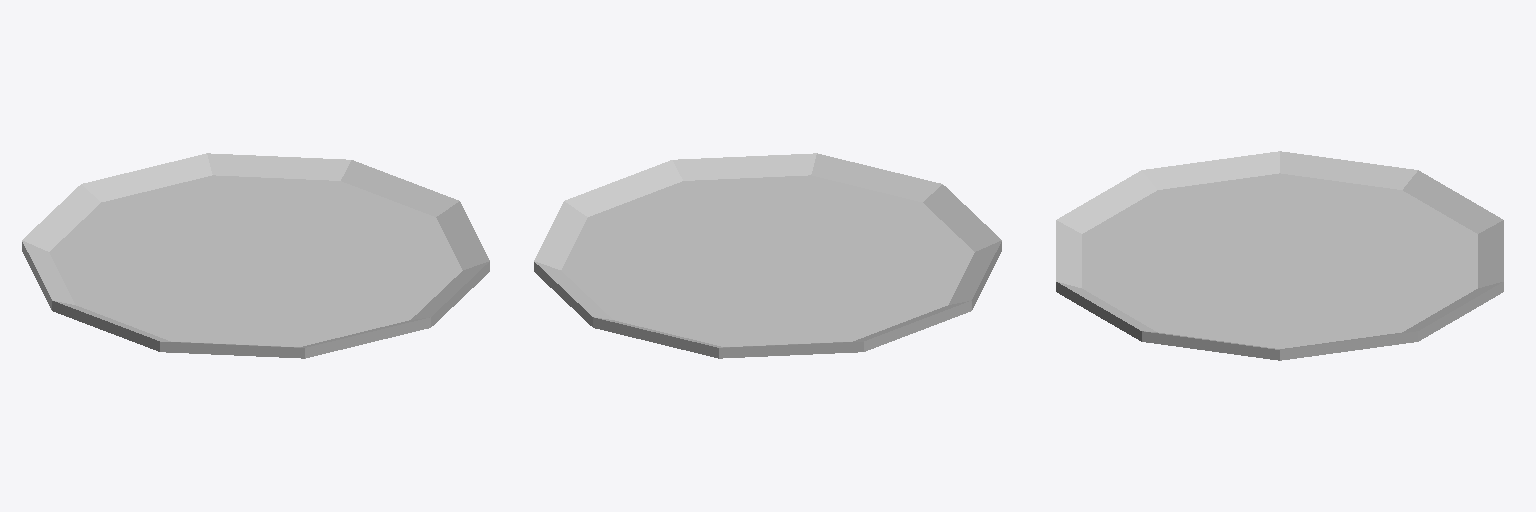
The model's file is Plate.obj.
3 renders of one model, left to right at view 1: azimuth 30°, elevation 25°; view 2: azimuth 150°, elevation 25°; view 3: azimuth 270°, elevation 25°, orthographic.
Parts seen in each view (by area): view 1: Plate; view 2: Plate; view 3: Plate.
Part boxes in pixels (left/top/right/bottom): Plate: left=22, top=153, right=489, bottom=358; Plate: left=534, top=153, right=1001, bottom=358; Plate: left=1056, top=151, right=1503, bottom=360.
Size of the model in its own units: 0.4 by 0.01 by 0.3804.